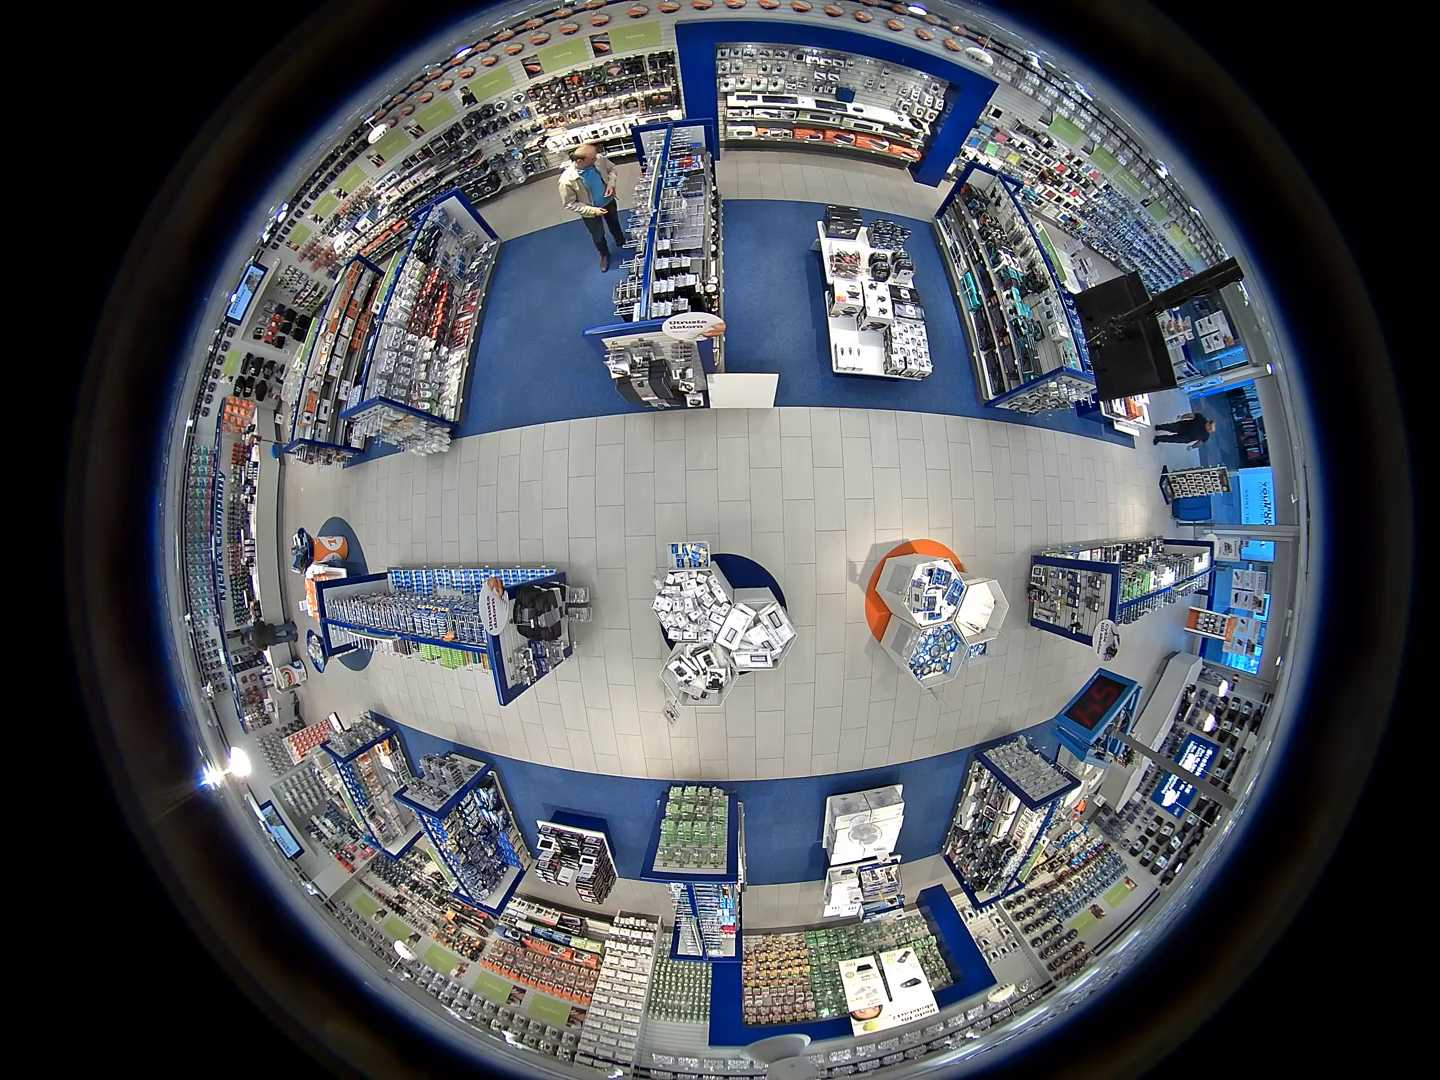person: (558, 144, 632, 273), (1153, 411, 1217, 451), (244, 620, 298, 650), (240, 627, 261, 652)
